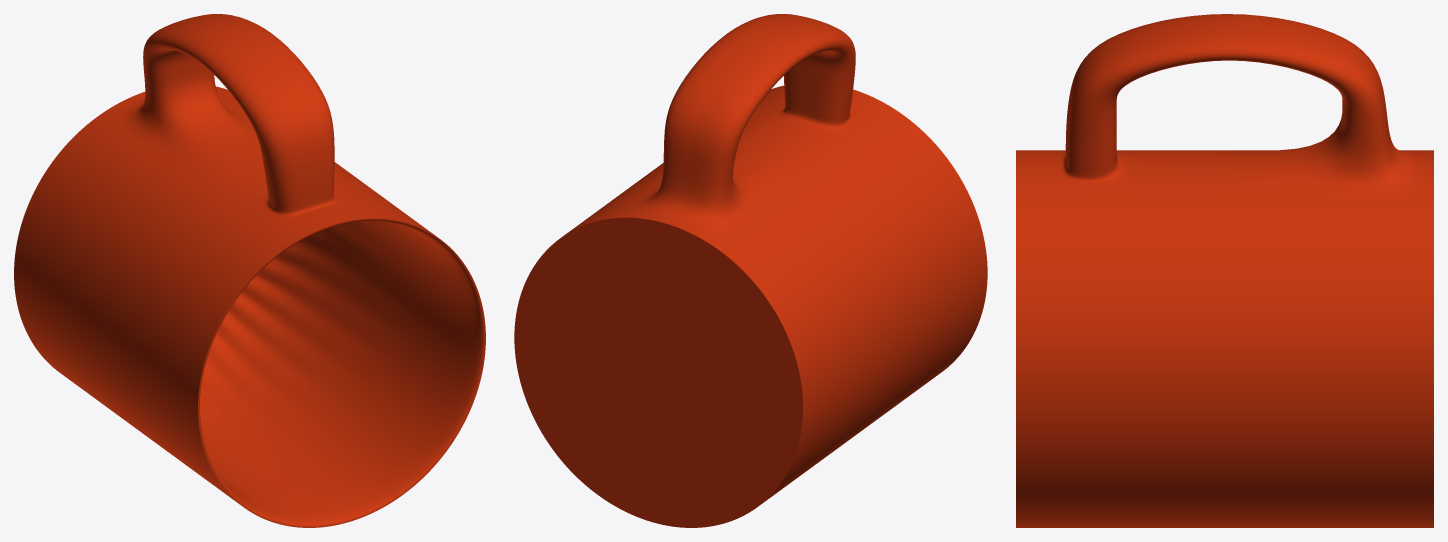
3 views of the same model, side by side, from view 1: azimuth 30°, elevation 25°; view 2: azimuth 150°, elevation 25°; view 3: azimuth 270°, elevation 25° (orthographic). The views are drawn at different scales.
Size of the model in its own units: 0.714 by 1 by 0.7899.
